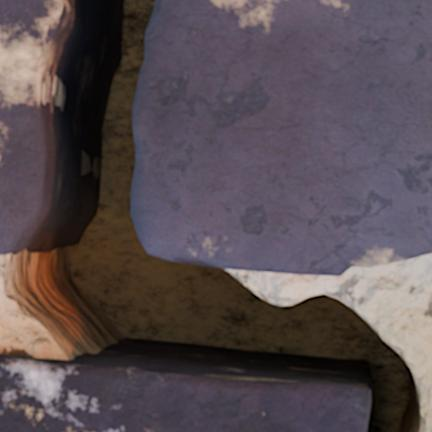brick: (0, 355, 370, 431)
broken_brick: (132, 0, 431, 276), (0, 0, 61, 254)
crack: (0, 0, 429, 431)
